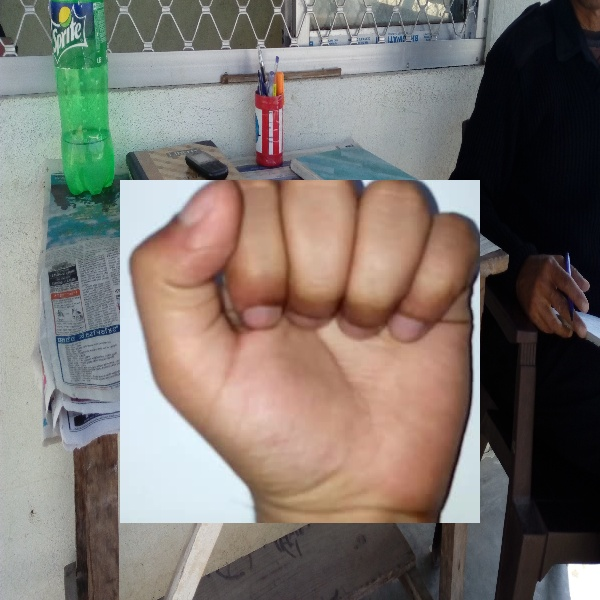A: (120, 180, 480, 523)
